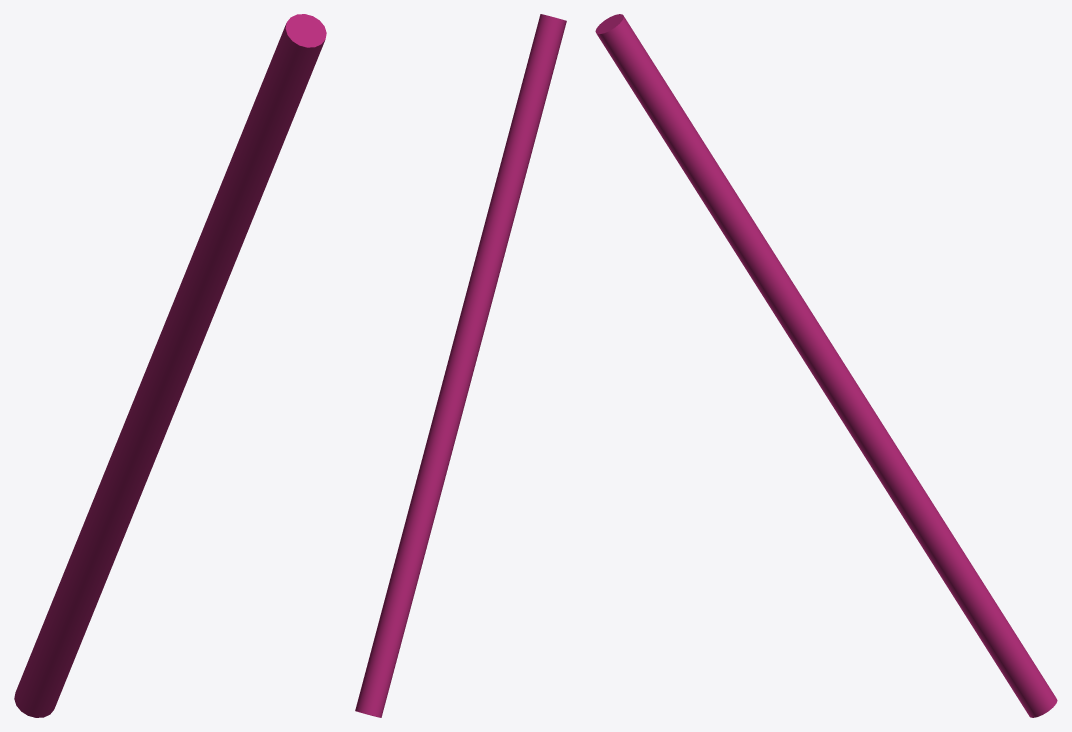
The model's file is back.dae.
3 renders of one model, left to right at view 1: azimuth 30°, elevation 25°; view 2: azimuth 150°, elevation 25°; view 3: azimuth 270°, elevation 25°, orthographic. The views are drawn at different scales.
Parts seen in each view (by area): view 1: beam3; view 2: beam3; view 3: beam3.
Part boxes in pixels (x1=…): beam3: x1=14, y1=14, x2=326, y2=717; beam3: x1=355, y1=14, x2=566, y2=717; beam3: x1=595, y1=14, x2=1057, y2=717.
Size of the model in its own units: 0.2787 by 5.35 by 3.22.
